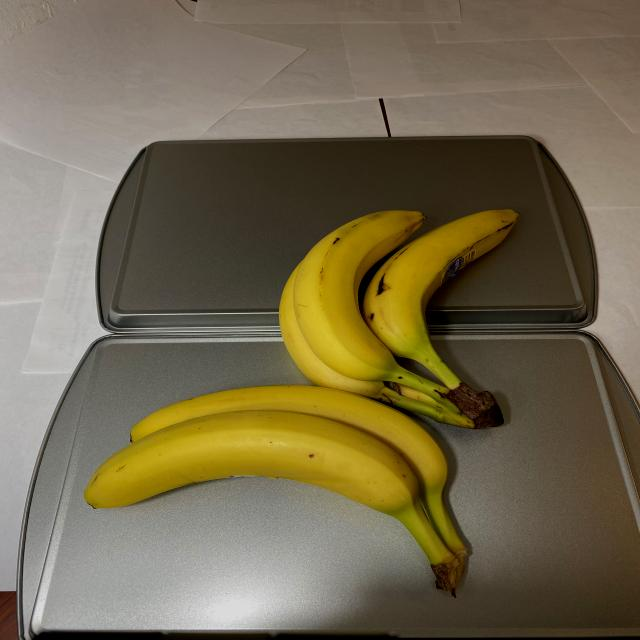banana: (83, 205, 527, 582)
